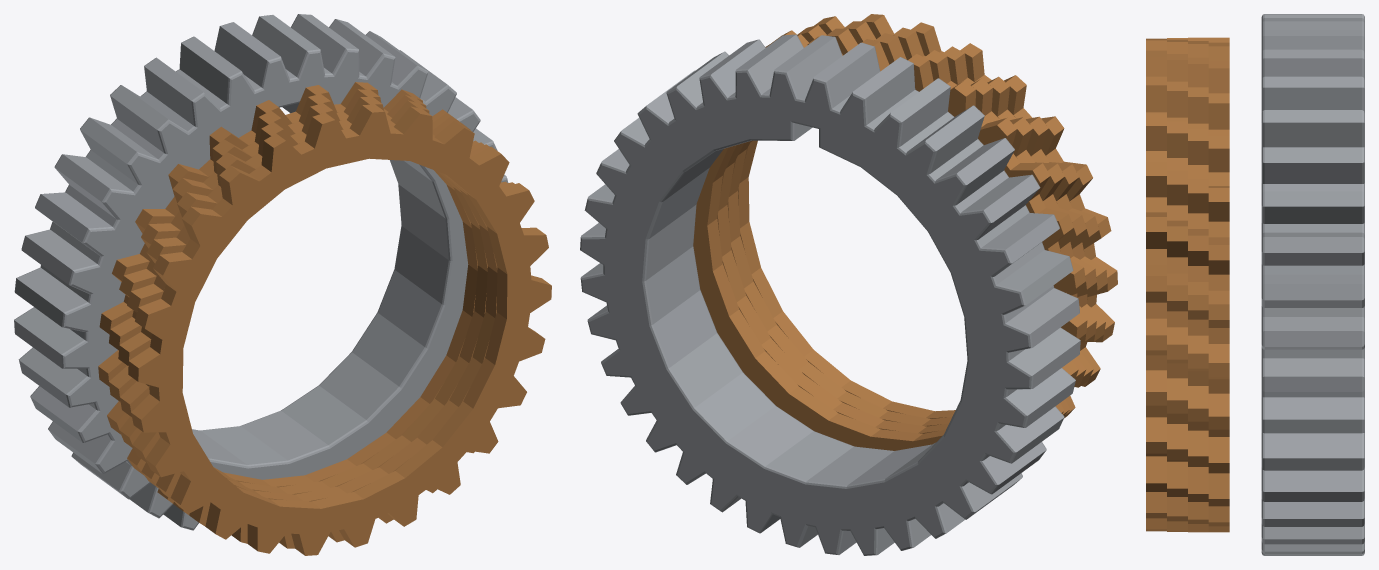
The model's file is crank-gears.glb.
The picture shows the model from 3 angles, left to right: view 1: azimuth 30°, elevation 25°; view 2: azimuth 150°, elevation 25°; view 3: azimuth 270°, elevation 25°; orthographic projection. The views are drawn at different scales.
Visible parts, largest first — view 1: crank-gears:steel, crank-gears:bronze; view 2: crank-gears:steel, crank-gears:bronze; view 3: crank-gears:steel, crank-gears:bronze.
Boxes of the visible parts, left/top/right/bottom form: crank-gears:steel: left=14, top=14, right=508, bottom=530; crank-gears:bronze: left=98, top=82, right=551, bottom=555; crank-gears:steel: left=580, top=34, right=1080, bottom=555; crank-gears:bronze: left=693, top=14, right=1117, bottom=450; crank-gears:steel: left=1261, top=14, right=1364, bottom=555; crank-gears:bronze: left=1146, top=37, right=1229, bottom=532.
Size of the model in its own units: 77.78 by 77.78 by 31.4.
